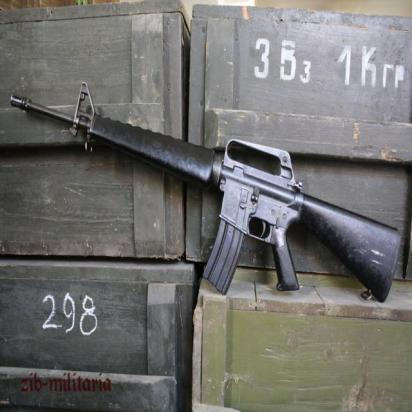Gun: (6, 79, 402, 303)
